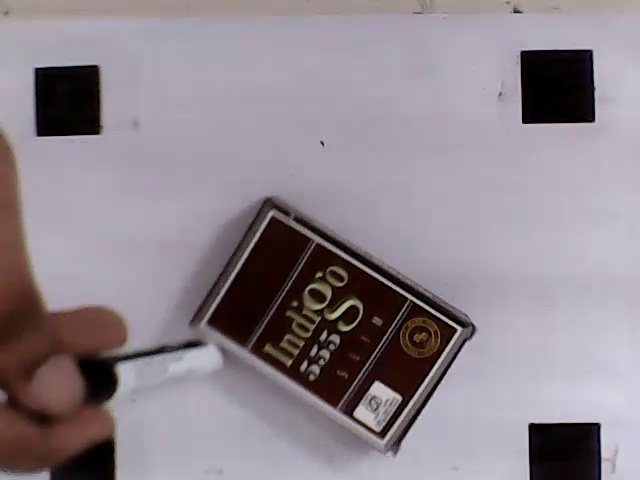BEX: (205, 211, 460, 442)
